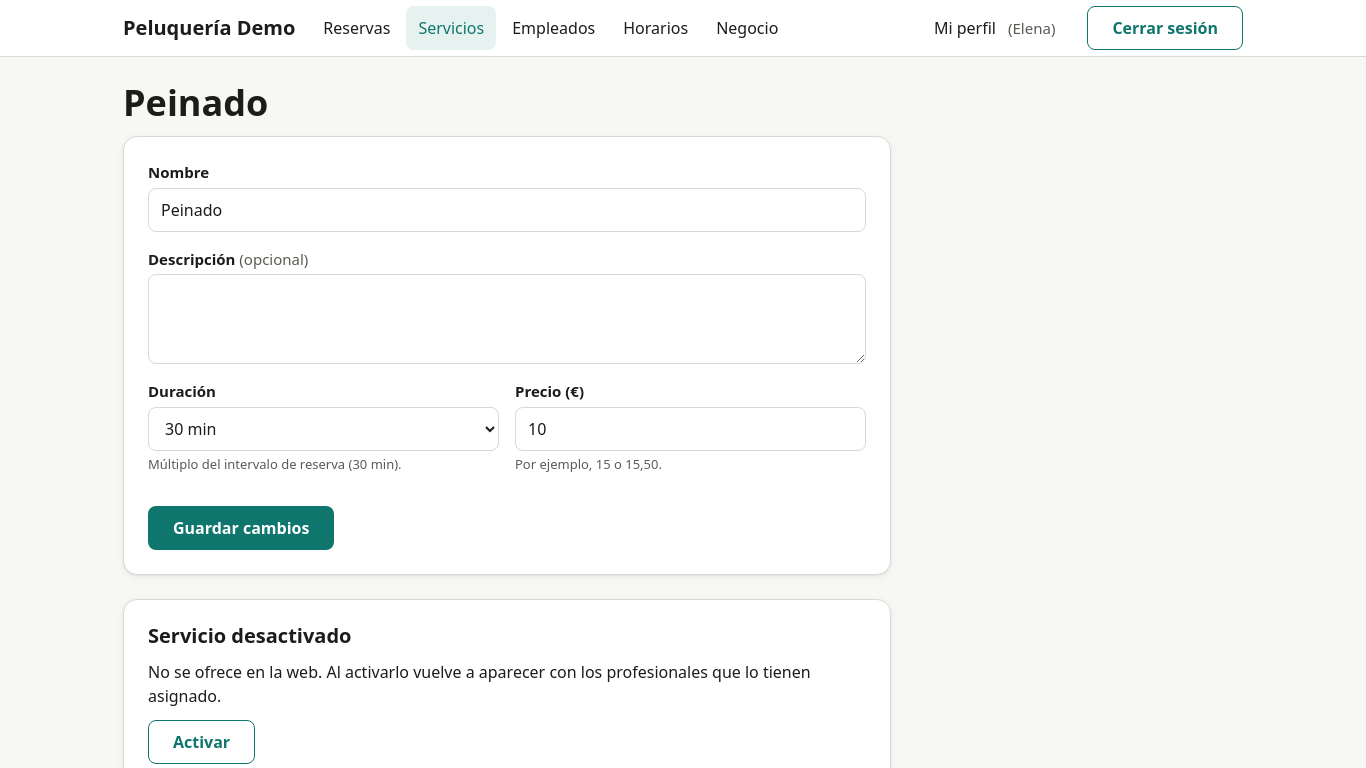
Scenario: servicios: volver a activar (CU-016, H-1) › activa un servicio desactivado tras confirmarlo
The image size is (1366, 768).
Expected: the heading "Servicio desactivado" is shown, [148, 622, 351, 649]
Click the button "Activar". click: {"x": 202, "y": 742}
box: [148, 720, 255, 764]
(page scrolled)
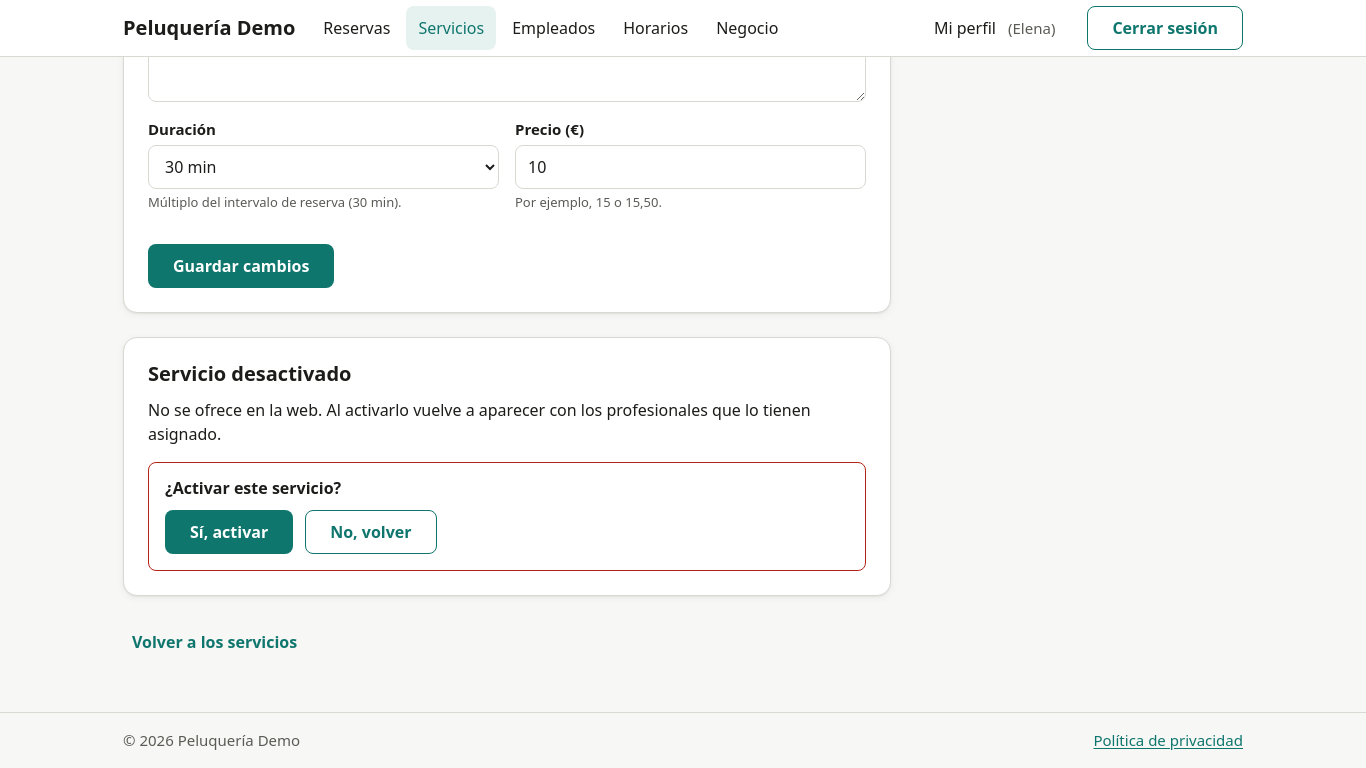
Click the button "Sí, activar". click: {"x": 229, "y": 532}
box: [165, 510, 293, 554]
(page scrolled)
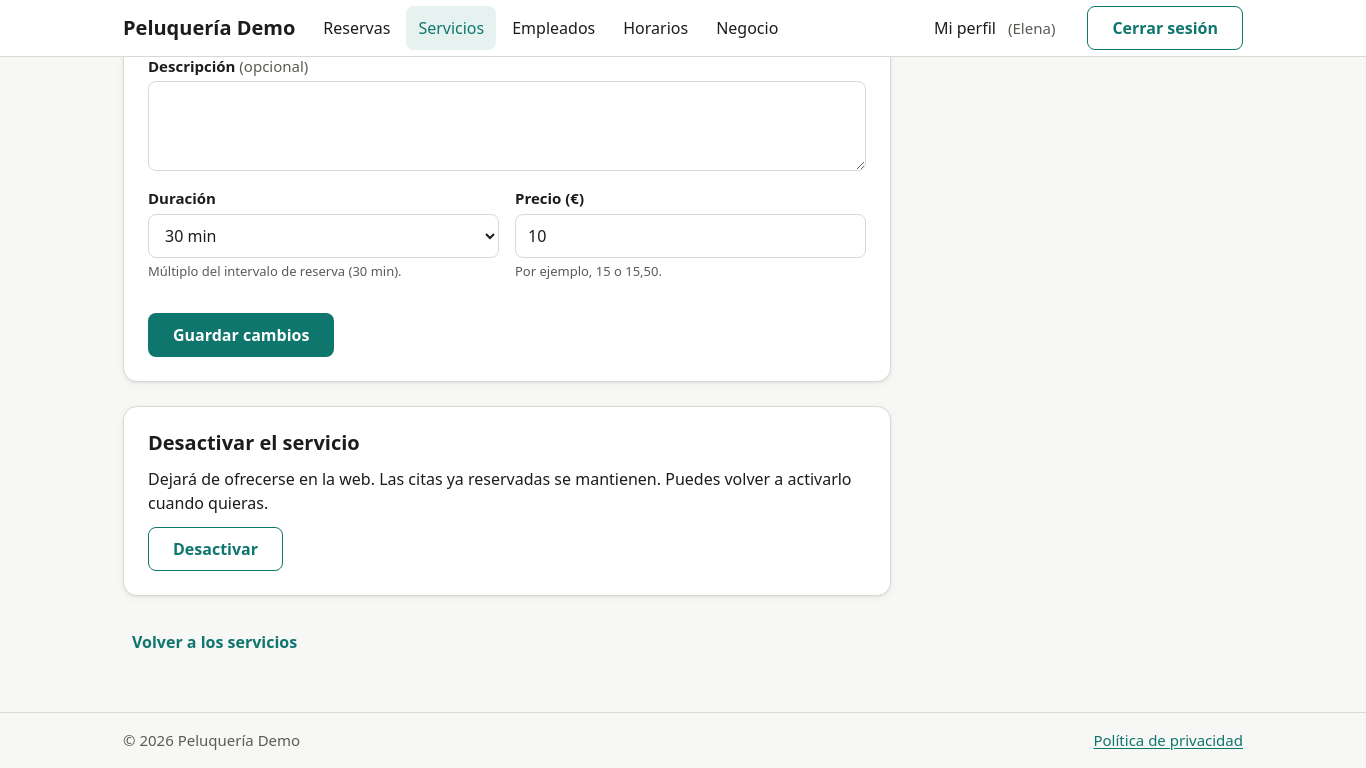
Expected: the heading "Desactivar el servicio" is shown, [148, 429, 360, 456]
